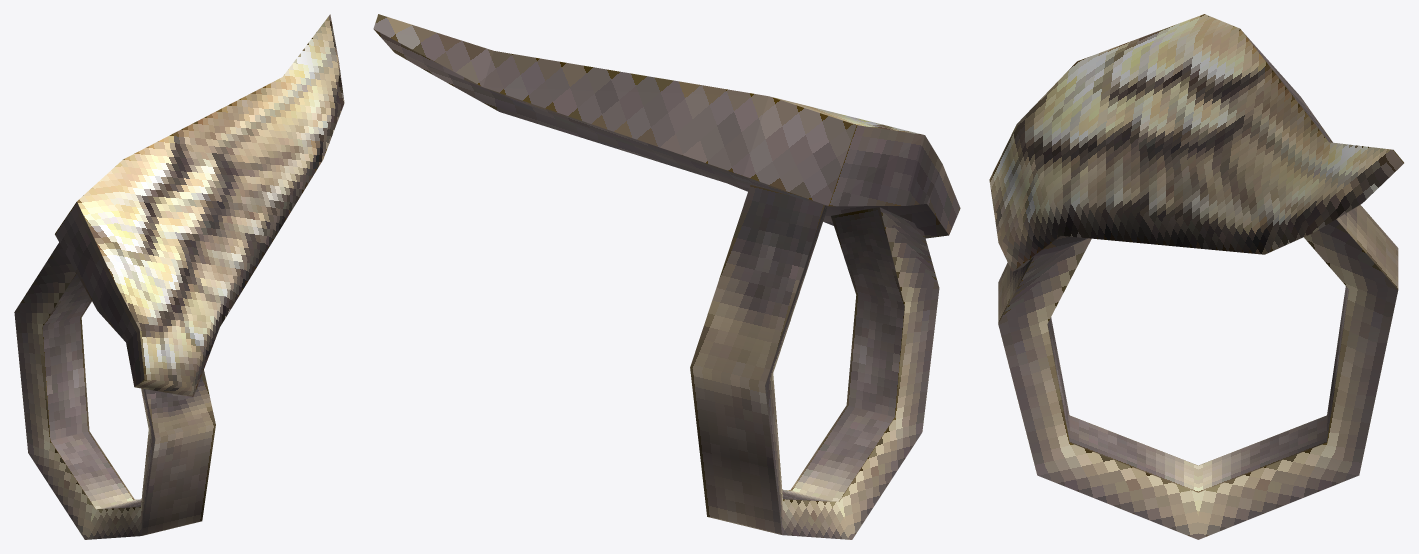
Rendered from 176-baohuzhihuan.FBX.
3 views of the same model, side by side, from view 1: azimuth 30°, elevation 25°; view 2: azimuth 150°, elevation 25°; view 3: azimuth 270°, elevation 25° (orthographic). The views are drawn at different scales.
Visible parts, largest first — view 1: 176; view 2: 176; view 3: 176.
Part boxes in pixels (bbox=[...]): 176: bbox=[14, 14, 344, 539]; 176: bbox=[373, 14, 960, 539]; 176: bbox=[989, 14, 1403, 539].
Bounding box in the file's own units: 41.54 × 47.89 × 31.85.
1 material, 1 textured.
